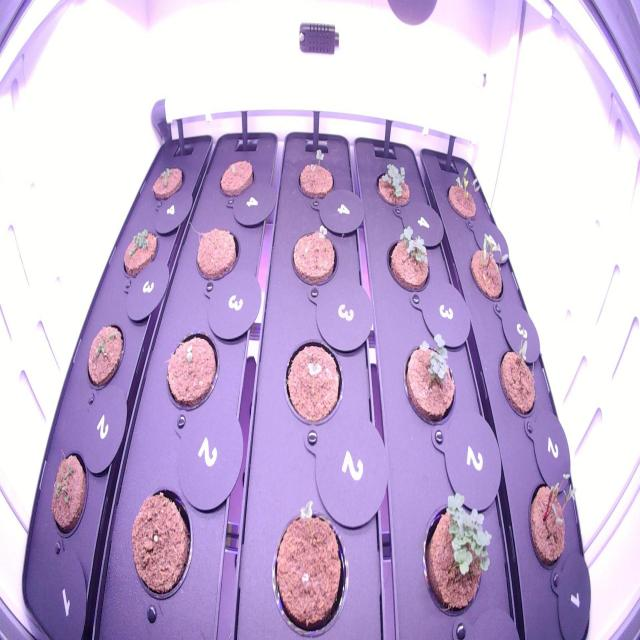germination: (265, 495, 351, 639), (414, 479, 496, 628), (520, 451, 582, 581), (278, 332, 348, 437), (399, 325, 461, 435), (161, 323, 224, 420), (496, 313, 546, 425), (287, 214, 342, 297), (465, 227, 516, 316), (380, 222, 436, 301), (82, 316, 128, 400), (294, 139, 342, 213), (368, 150, 418, 216), (117, 221, 162, 288), (441, 158, 481, 231), (147, 154, 186, 208)
pod: (127, 479, 196, 608), (46, 440, 96, 550), (192, 218, 242, 292), (216, 152, 260, 204)
